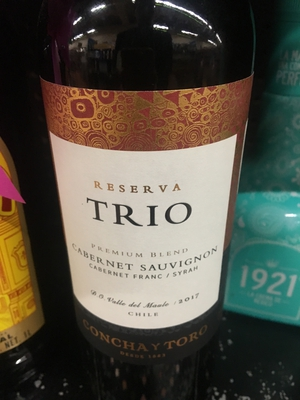trio cabernet sauvignon: (37, 11, 253, 388)
